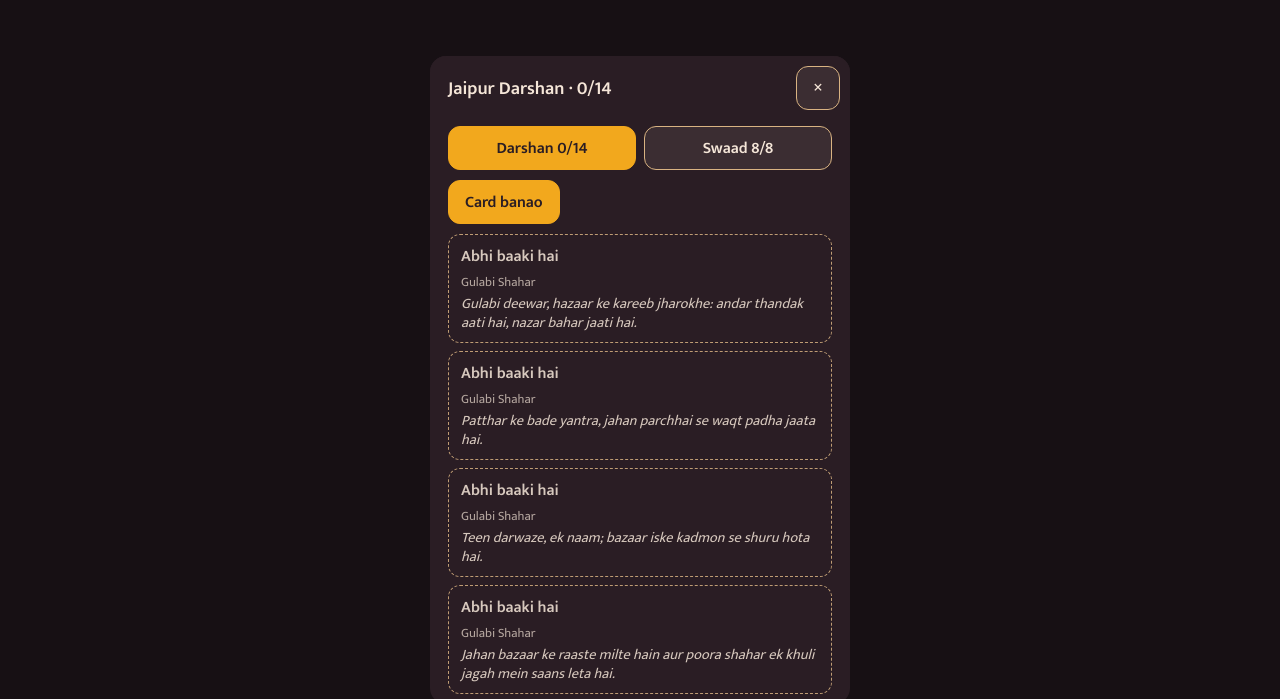
Test case: a finished list gets a warm line, in Hinglish by default
Click the tab "Swaad 8/8": (738, 148) x1=644 y1=126 x2=832 y2=170
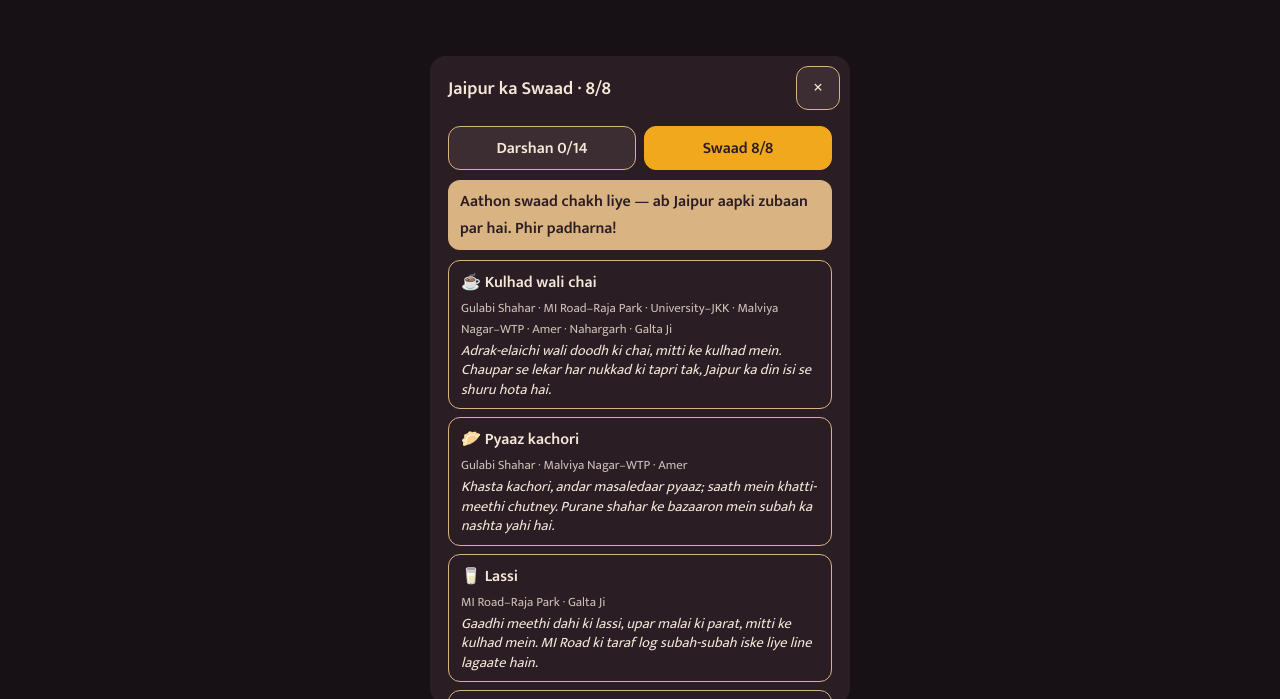
Check: the heading "Jaipur ka Swaad · 8/8" is shown, box x1=448 y1=72 x2=611 y2=104
Check: the text with class "swaad-done" shows "Aathon swaad", box x1=460 y1=188 x2=808 y2=242
